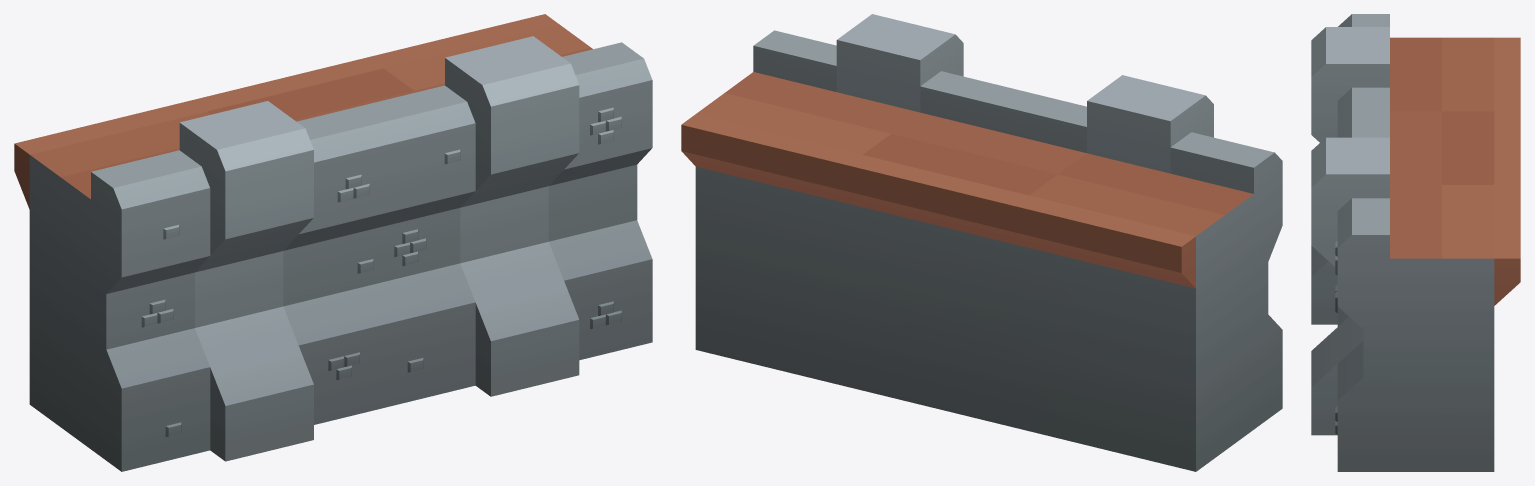
File: wall_straight.glb
3 renders of one model, left to right at view 1: azimuth 30°, elevation 25°; view 2: azimuth 150°, elevation 25°; view 3: azimuth 270°, elevation 25°, orthographic. The views are drawn at different scales.
Parts seen in each view (by area): view 1: wall_straight; view 2: wall_straight; view 3: wall_straight.
Part boxes in pixels (x1=…): wall_straight: x1=14, y1=14, x2=652, y2=471; wall_straight: x1=681, y1=14, x2=1282, y2=471; wall_straight: x1=1311, y1=14, x2=1520, y2=471.
Size of the model in its own units: 2 by 1.1 by 0.7999.
1 material, 1 textured.
